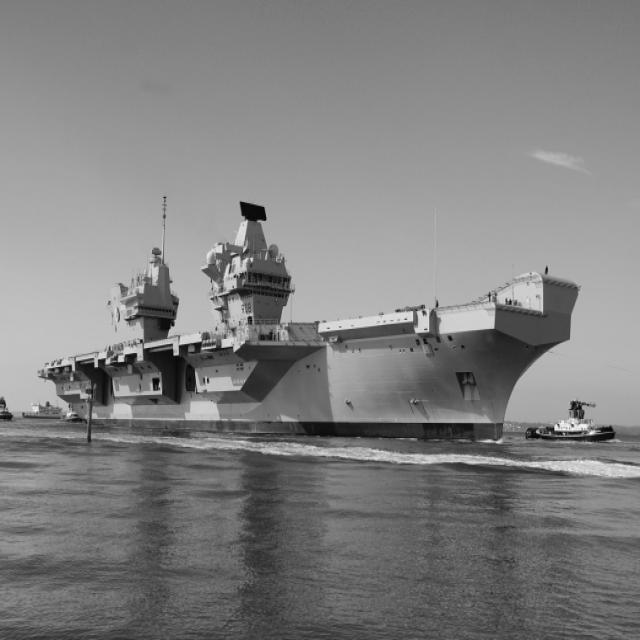Portanaves: (37, 193, 581, 447)
